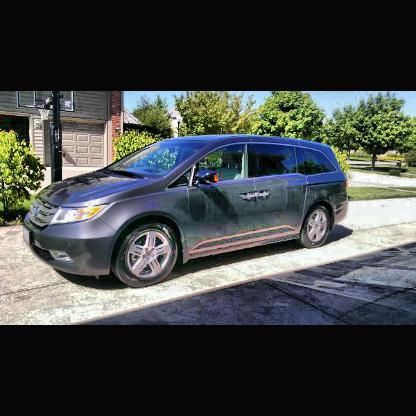Honda Odyssey Minivan 2012: (21, 134, 353, 290)
